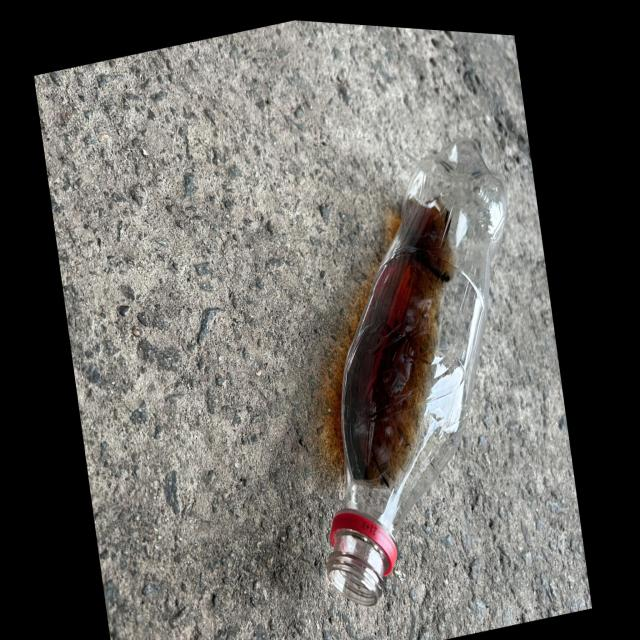low: (327, 139, 506, 605)
